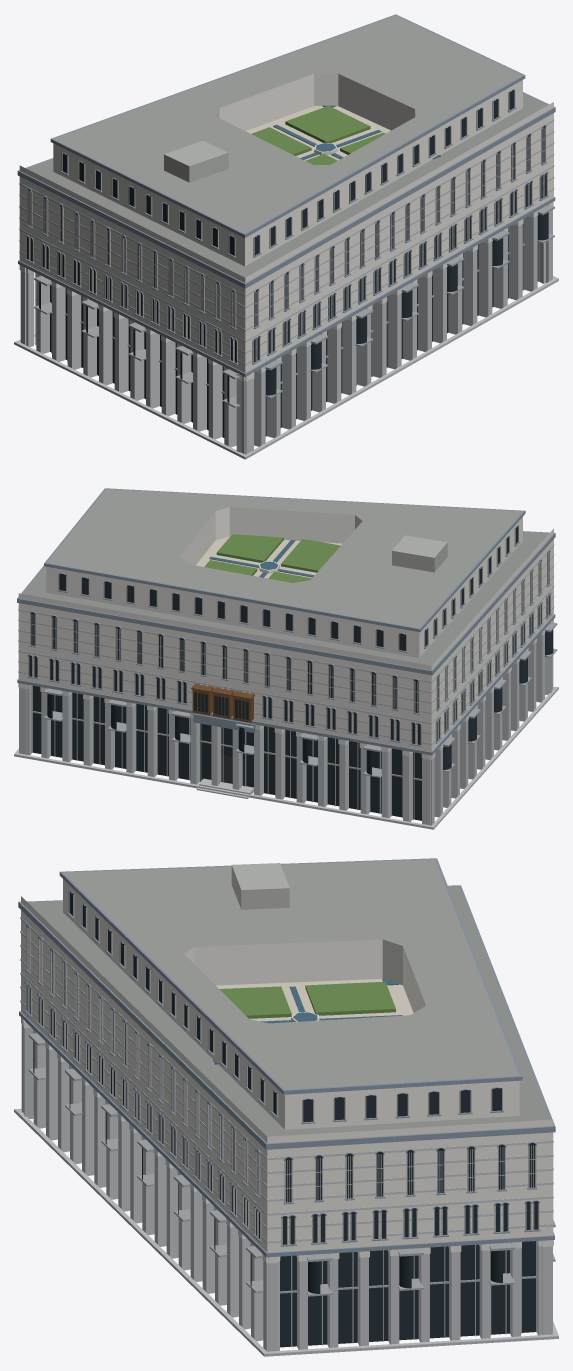
File: ismaili_centre.glb
The picture shows the model from 3 angles, top to bottom: view 1: azimuth 30°, elevation 25°; view 2: azimuth 150°, elevation 25°; view 3: azimuth 270°, elevation 25°; orthographic projection. The views are drawn at different scales.
Size of the model in its own units: 53.01 by 25 by 44.47.
